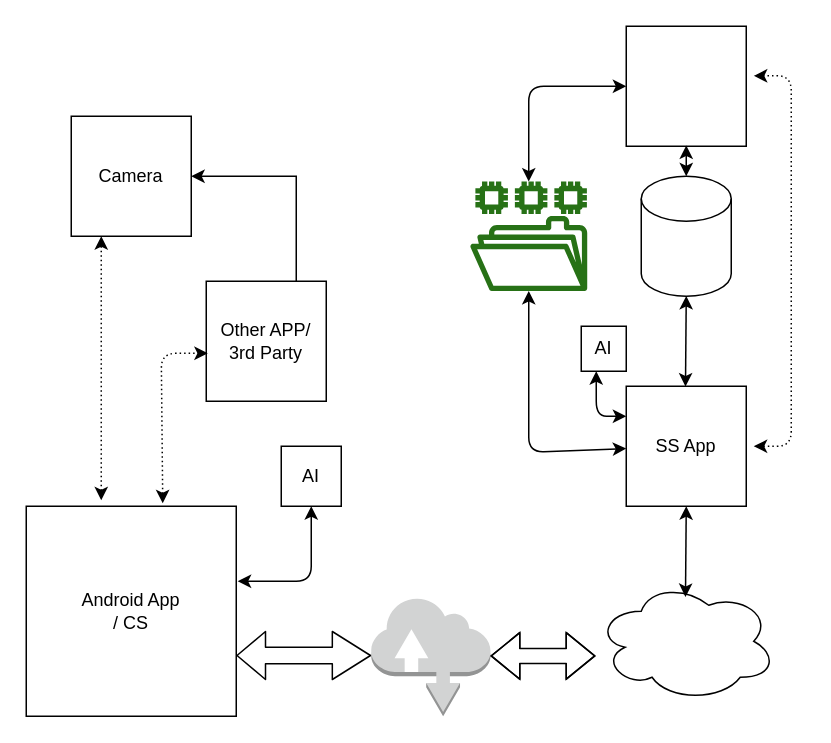
Some shapes in this 831 by 743 pixel diagram are drawn without their labels. Here are the shapes that lost their labels. From the top down, the centre of each, then its label:
At (685,85): "Another Application".
At (685,235): "DB".
At (685,640): "AWS/Private".
